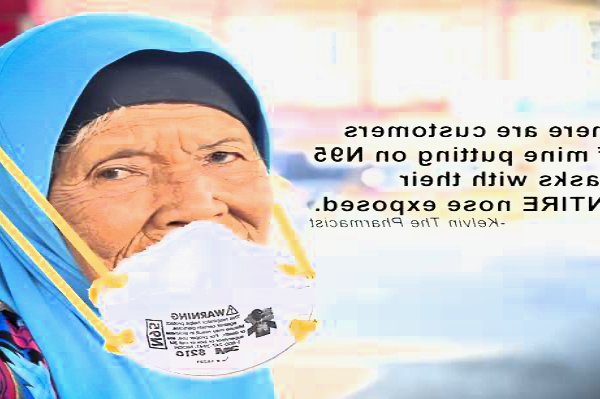mask_weared_incorrect: (57, 128, 275, 307)
